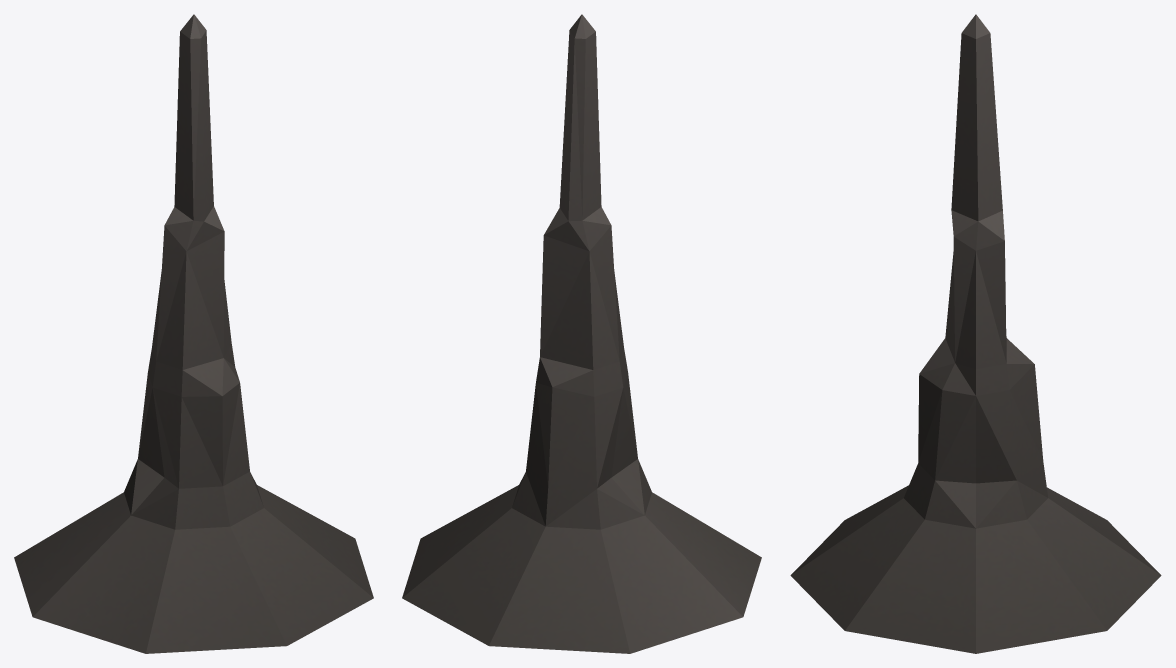
The model's file is Stal_5.fbx.
3 renders of one model, left to right at view 1: azimuth 30°, elevation 25°; view 2: azimuth 150°, elevation 25°; view 3: azimuth 270°, elevation 25°, orthographic.
Visible parts, largest first — view 1: pCone9; view 2: pCone9; view 3: pCone9.
Boxes of the visible parts, <box> form: pCone9: <box>14,14,373,653</box>; pCone9: <box>402,14,761,653</box>; pCone9: <box>790,14,1161,653</box>.
Size of the model in its own units: 180 by 300 by 180.
1 material, 1 textured.
